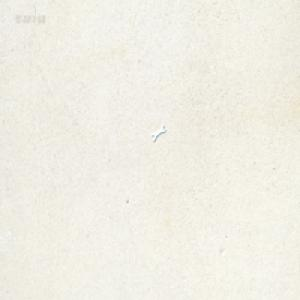Wrench: (151, 124, 166, 141)
